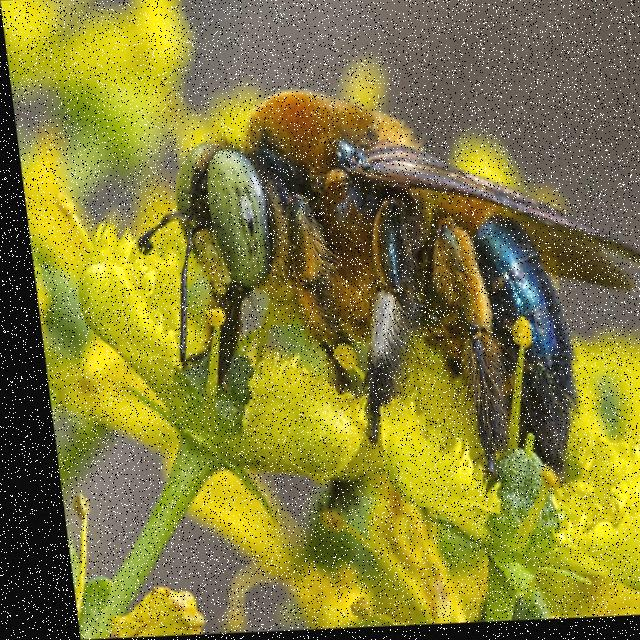Xylocopa: (103, 48, 640, 531)
